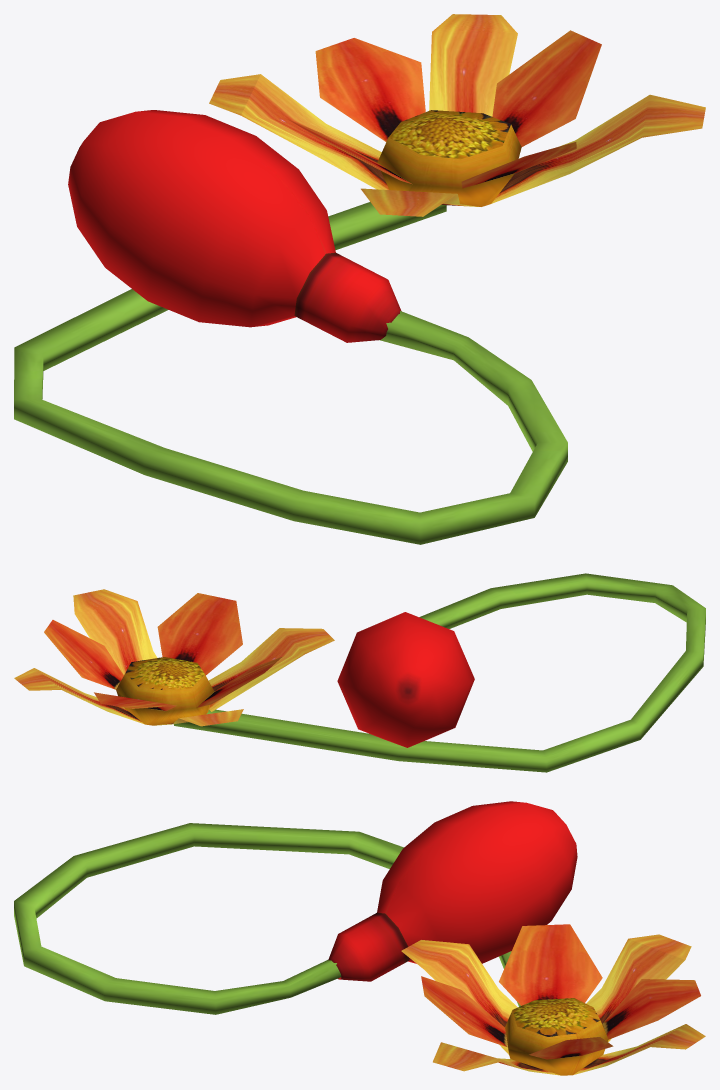
The model's file is SquirtingLapelFlower.fbx.
The picture shows the model from 3 angles, top to bottom: view 1: azimuth 30°, elevation 25°; view 2: azimuth 150°, elevation 25°; view 3: azimuth 270°, elevation 25°; orthographic projection. The views are drawn at different scales.
Visible parts, largest first — view 1: Squirting_Lapel_Flower; view 2: Squirting_Lapel_Flower; view 3: Squirting_Lapel_Flower.
Part boxes in pixels (x1,y1,x2,y2): Squirting_Lapel_Flower: (14, 14, 705, 544); Squirting_Lapel_Flower: (14, 573, 705, 772); Squirting_Lapel_Flower: (14, 801, 705, 1075).
Bounding box in the file's own units: 0.3375 × 0.0815 × 0.3494.
